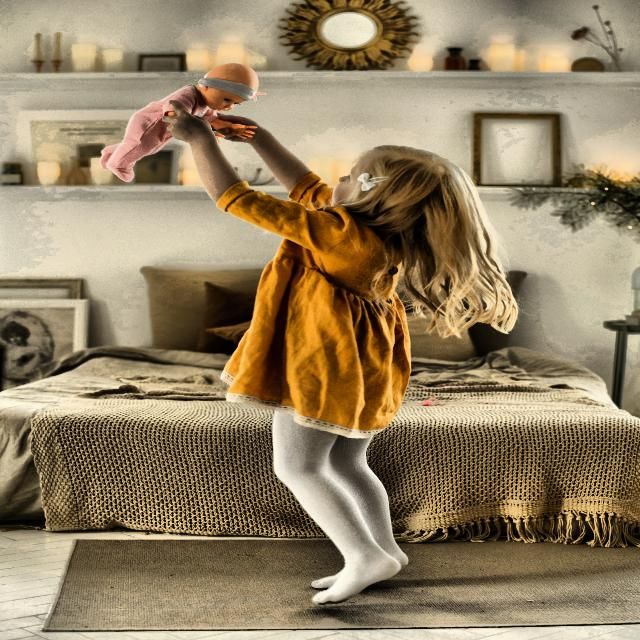Human: (196, 120, 460, 640)
